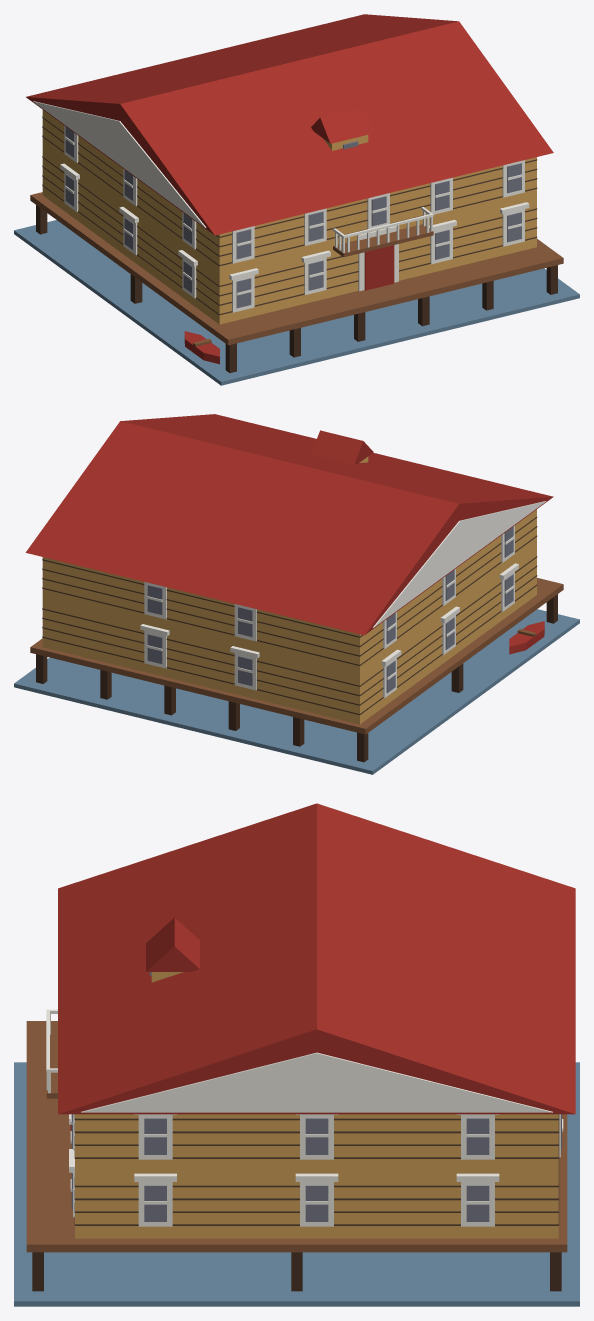
The model's file is house-2x2-2f-palafito-a.glb.
3 views of the same model, one above another, from view 1: azimuth 30°, elevation 25°; view 2: azimuth 150°, elevation 25°; view 3: azimuth 270°, elevation 25° (orthographic). The views are drawn at different scales.
Visible parts, largest first — view 1: house-2x2-2f-palafito-a; view 2: house-2x2-2f-palafito-a; view 3: house-2x2-2f-palafito-a.
Part boxes in pixels (left/top/right/bottom): house-2x2-2f-palafito-a: left=14, top=14, right=579, bottom=385; house-2x2-2f-palafito-a: left=14, top=414, right=579, bottom=774; house-2x2-2f-palafito-a: left=14, top=803, right=579, bottom=1306.
Size of the model in its own units: 1.99 by 1.05 by 1.99.
1 material, 1 textured.
